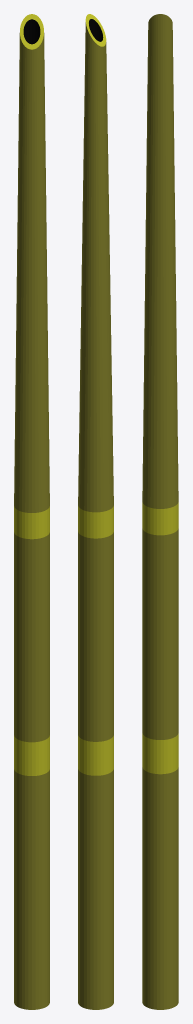
The model's file is bambu_runcing.fbx.
3 renders of one model, left to right at view 1: azimuth 90°, elevation 25°; view 2: azimuth 150°, elevation 25°; view 3: azimuth 270°, elevation 25°, orthographic.
Parts seen in each view (by area): view 1: Cylinder; view 2: Cylinder; view 3: Cylinder.
Part boxes in pixels (box(x1,y1,x2,y2)): Cylinder: box(14, 14, 49, 1009); Cylinder: box(78, 14, 113, 1009); Cylinder: box(142, 14, 178, 1009).
Bounding box in the file's own units: 52.12 × 1574 × 52.12.
